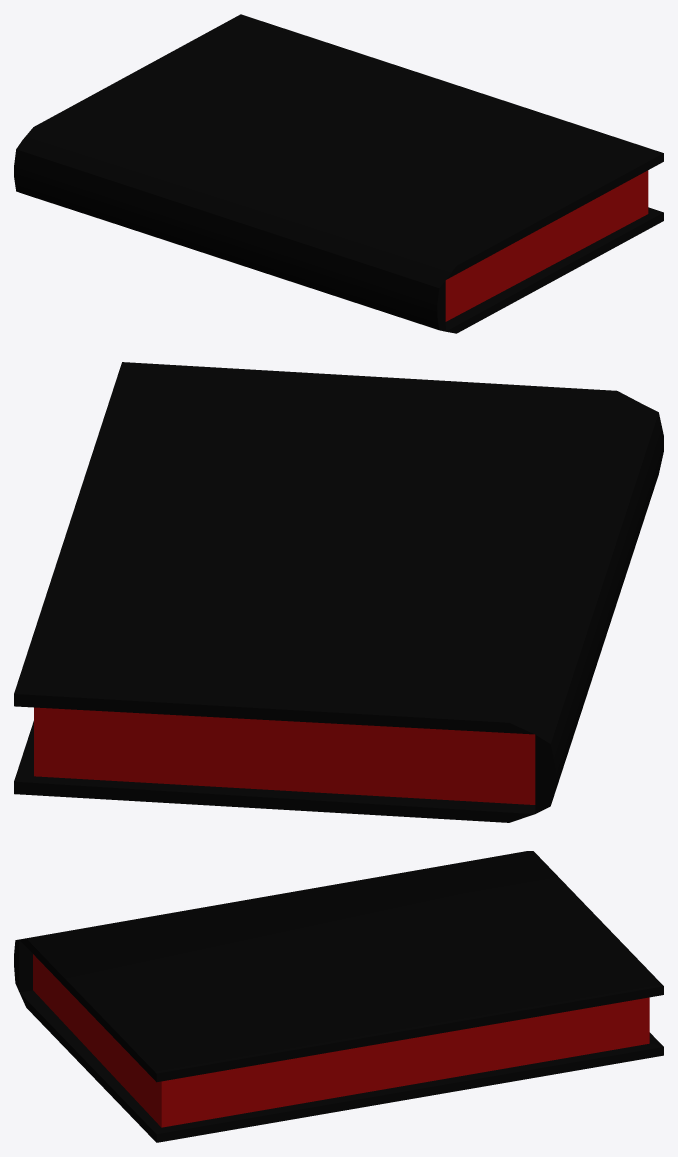
The model's file is BOOK.FBX.
3 renders of one model, top to bottom at view 1: azimuth 30°, elevation 25°; view 2: azimuth 150°, elevation 25°; view 3: azimuth 270°, elevation 25°, orthographic. The views are drawn at different scales.
Visible parts, largest first — view 1: Box015; view 2: Box015; view 3: Box015.
Part boxes in pixels (x1,y1,x2,y2): Box015: (14,14,663,333); Box015: (14,362,663,822); Box015: (14,851,663,1142).
Size of the model in its own units: 12.51 by 1.72 by 14.6.
